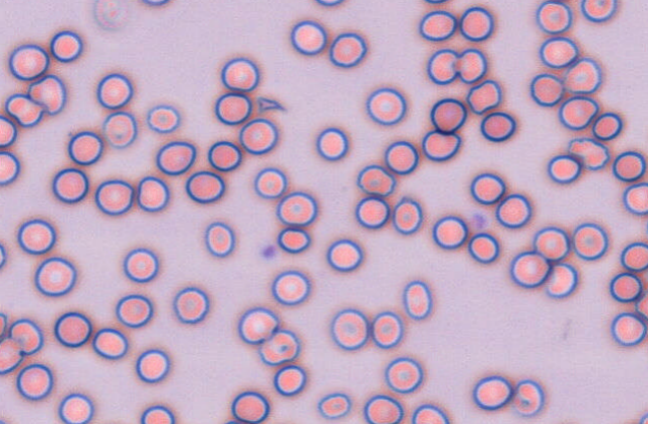RBC: (34, 256, 76, 296), (330, 308, 369, 350), (237, 306, 279, 344), (509, 250, 550, 288), (365, 87, 406, 125), (258, 329, 300, 366), (8, 43, 49, 80), (94, 178, 134, 215), (238, 117, 278, 154), (275, 191, 317, 226), (384, 356, 423, 393), (472, 375, 513, 410), (155, 140, 196, 175), (567, 136, 609, 170), (563, 57, 601, 94), (571, 222, 608, 260), (17, 218, 56, 254), (53, 311, 92, 347), (271, 269, 310, 305), (558, 95, 598, 130), (16, 363, 53, 400), (96, 72, 133, 109), (172, 286, 209, 323), (51, 167, 89, 203), (329, 31, 367, 67), (220, 57, 259, 92), (429, 97, 466, 133), (101, 111, 137, 148), (290, 19, 327, 55), (8, 317, 43, 355), (532, 226, 570, 261), (115, 293, 153, 328), (185, 170, 224, 203), (230, 390, 269, 423), (538, 36, 578, 68), (67, 130, 103, 165), (495, 193, 531, 228), (122, 247, 158, 282), (214, 91, 251, 125), (535, 0, 572, 34), (511, 378, 544, 416), (370, 310, 403, 348), (356, 164, 395, 196), (421, 129, 460, 161), (135, 348, 170, 383), (544, 262, 578, 298), (610, 312, 646, 346), (459, 5, 493, 41), (432, 215, 468, 249), (326, 238, 363, 271), (391, 196, 423, 234), (418, 10, 457, 41), (426, 48, 459, 84), (136, 175, 169, 211), (91, 327, 128, 359), (402, 280, 432, 319), (363, 394, 403, 423), (384, 140, 418, 174), (529, 73, 564, 106), (469, 172, 505, 204), (57, 392, 94, 423), (315, 126, 348, 160), (354, 196, 389, 228), (456, 47, 487, 83), (480, 111, 516, 142), (204, 221, 235, 257), (612, 150, 646, 182), (253, 166, 287, 198), (273, 364, 306, 396), (49, 30, 82, 62), (207, 140, 241, 171), (93, 0, 128, 29), (467, 232, 499, 263), (609, 272, 642, 302), (547, 154, 581, 183), (146, 104, 180, 133), (317, 391, 351, 419), (276, 226, 310, 253), (0, 337, 24, 374), (592, 111, 622, 140), (622, 182, 648, 215), (620, 241, 648, 271), (580, 0, 617, 22), (411, 403, 449, 424), (0, 150, 20, 185), (140, 404, 175, 423), (0, 114, 16, 147), (635, 292, 648, 320), (0, 311, 8, 341), (139, 0, 171, 6), (313, 0, 345, 6), (0, 241, 6, 270), (223, 419, 248, 424), (638, 411, 647, 424), (423, 0, 450, 4), (645, 217, 648, 241)
Schistocyte: (27, 74, 67, 115), (5, 95, 46, 126), (466, 82, 501, 113), (258, 97, 287, 114)
